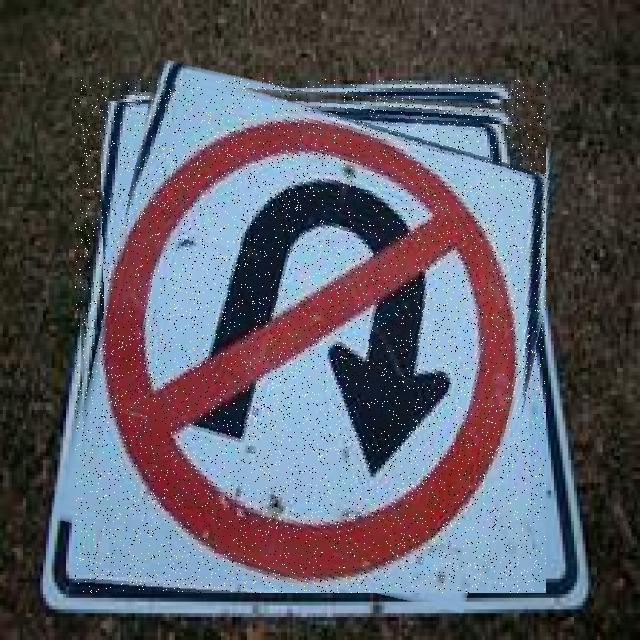no u turn: (75, 78, 546, 593)
